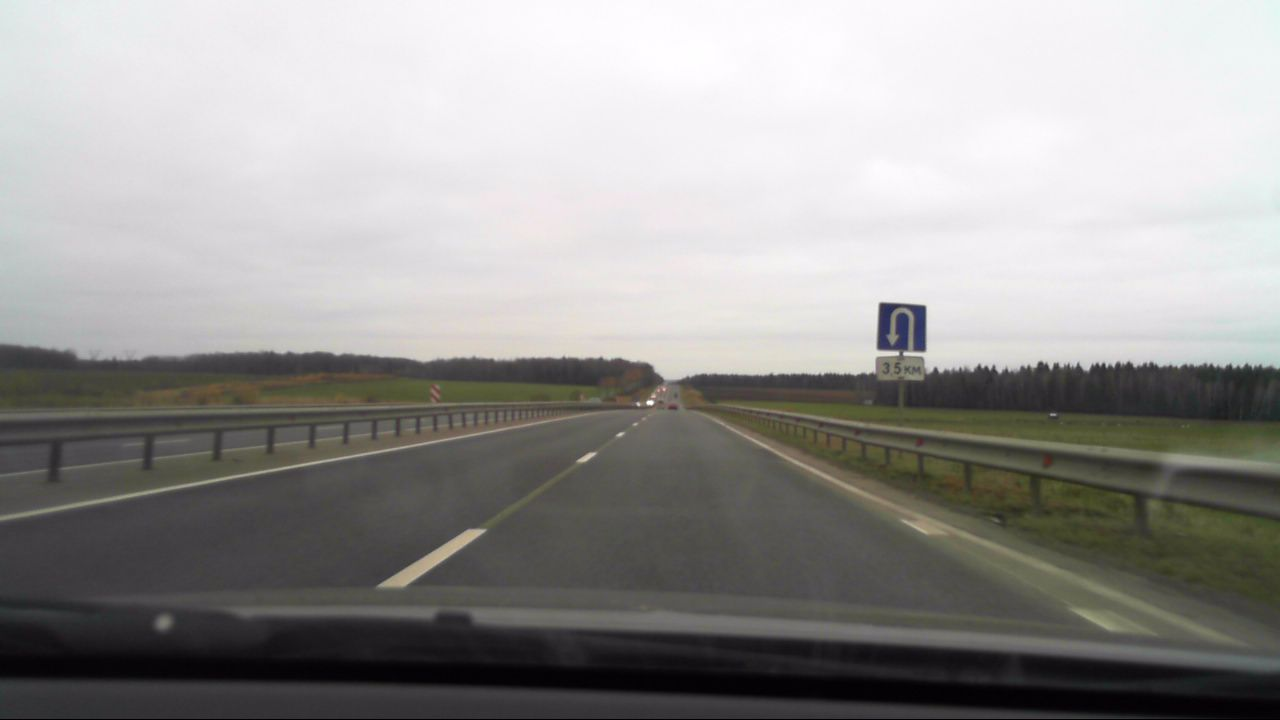U-turn: (879, 303, 926, 351)
